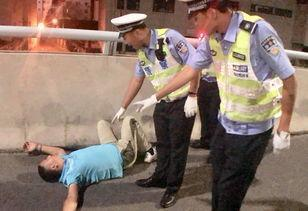Fall-Detected: (22, 105, 158, 210)
